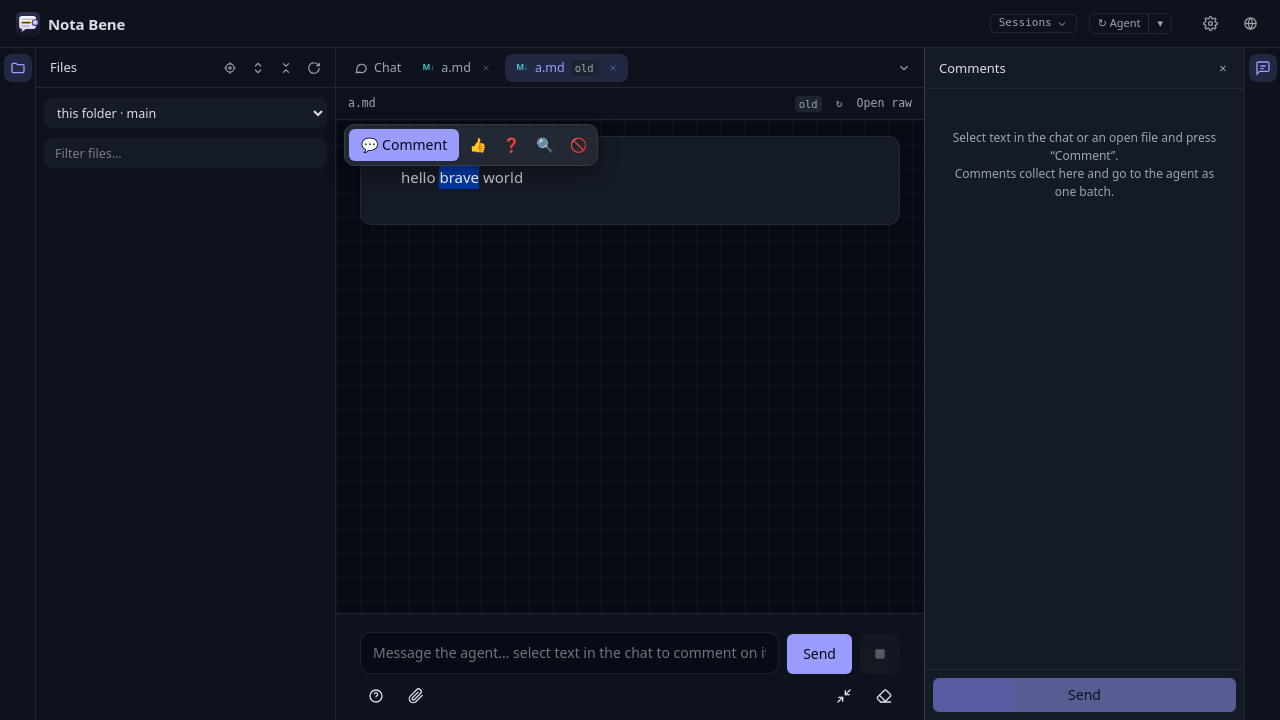
Test: a selection in a branch view anchors with its ref; its mark never paints in a.md of this folder
Expected: the element showing "hello brave world" is shown, x1=336 y1=120 x2=924 y2=613
Click the button "💬 Comment" at (404, 145), box x1=349 y1=129 x2=459 y2=161
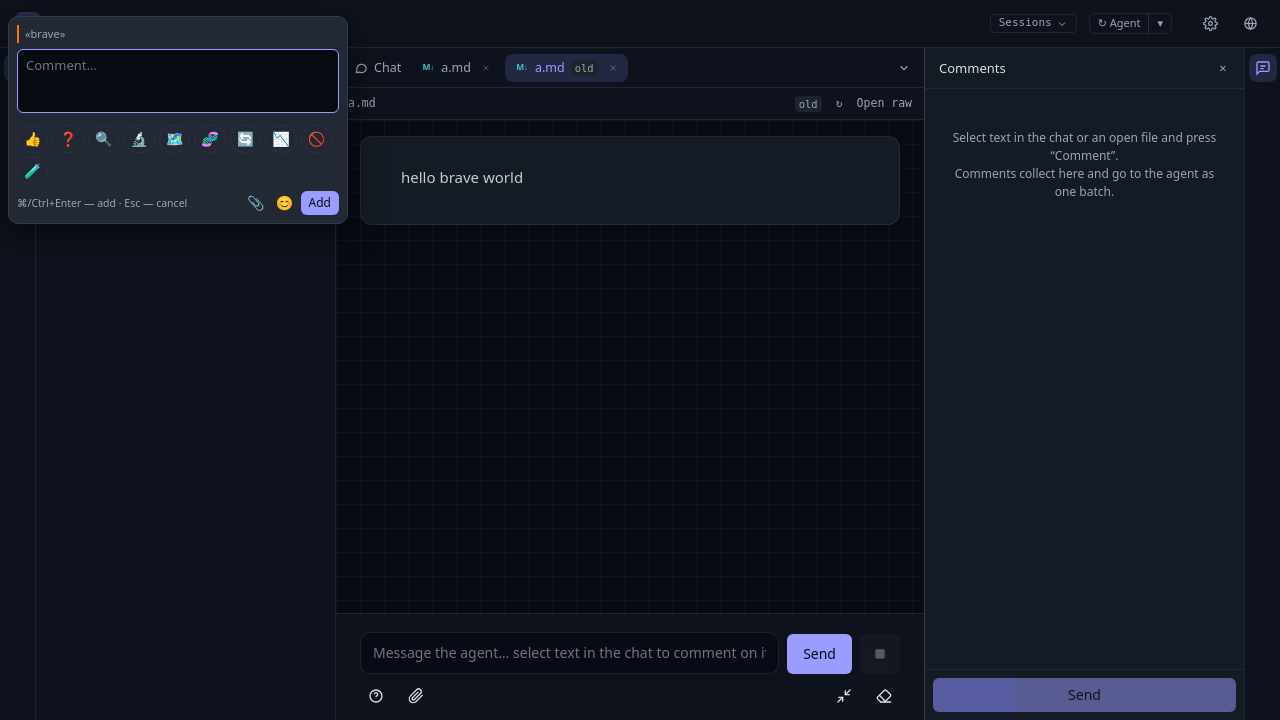
Type "on old" into the text box with placeholder "Comment…" at (178, 81), box x1=17 y1=49 x2=339 y2=113
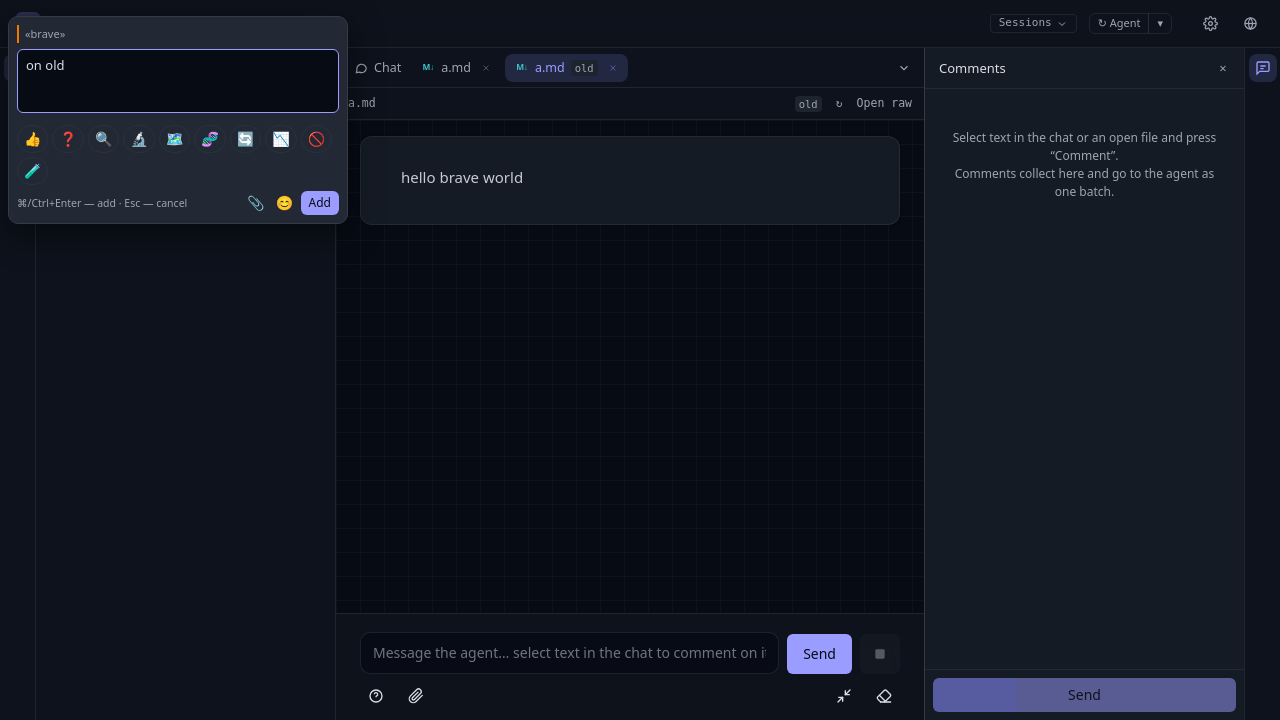
Click the button "Add" at (320, 203), box x1=301 y1=191 x2=339 y2=215
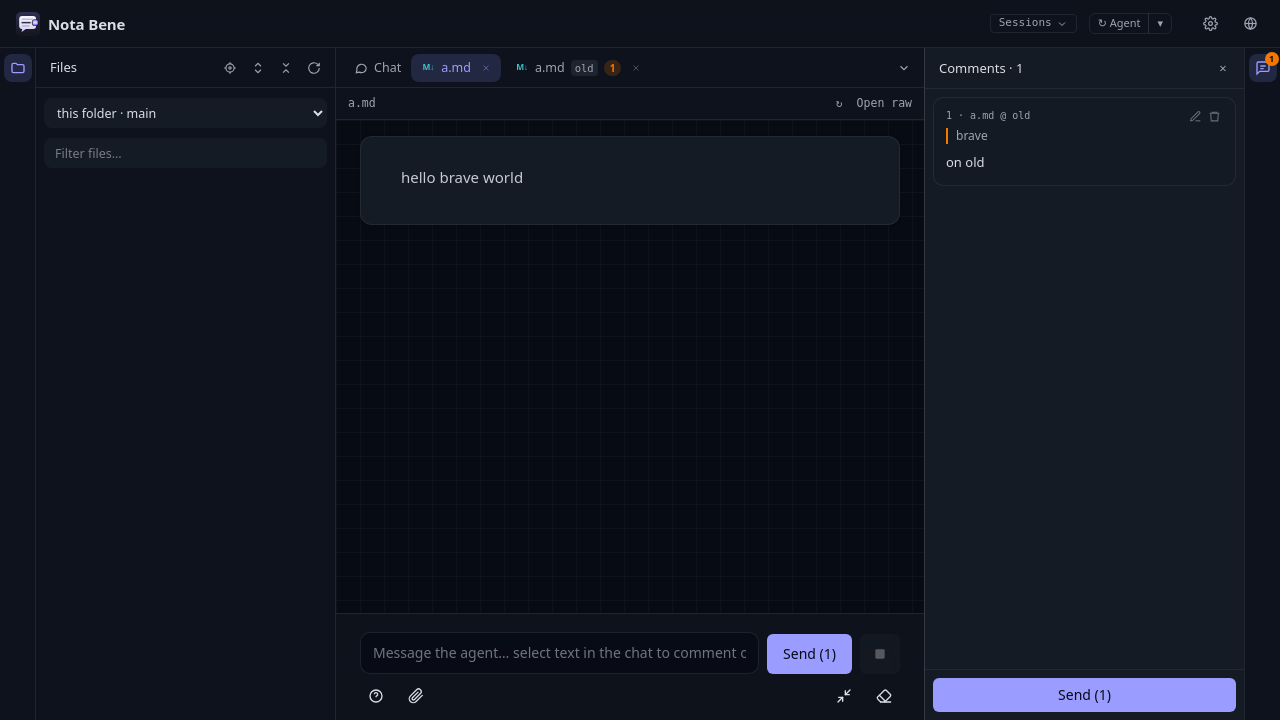
Expected: the text "old" is shown, x1=571 y1=60 x2=598 y2=76
Result: the text "1" in the row of "Chat" is shown at x1=610 y1=60 x2=615 y2=74
